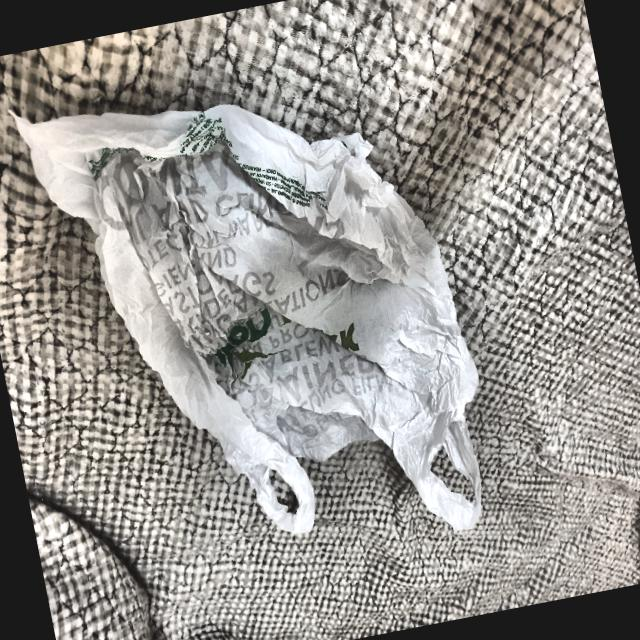plastic bag: (0, 21, 513, 610)
